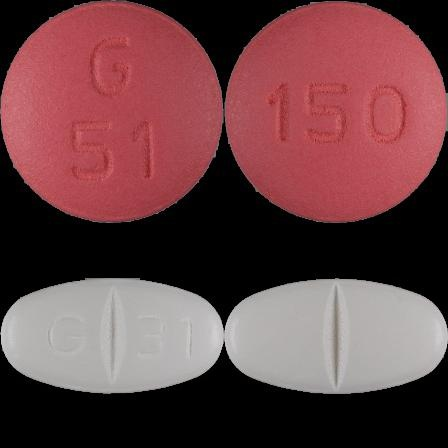10544-438: (0, 0, 224, 224)
